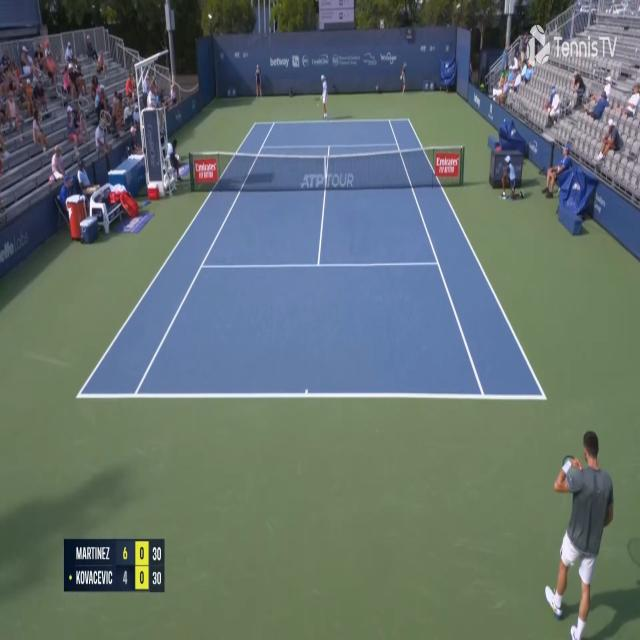tennis-player: (547, 424, 619, 634), (318, 71, 333, 120)
